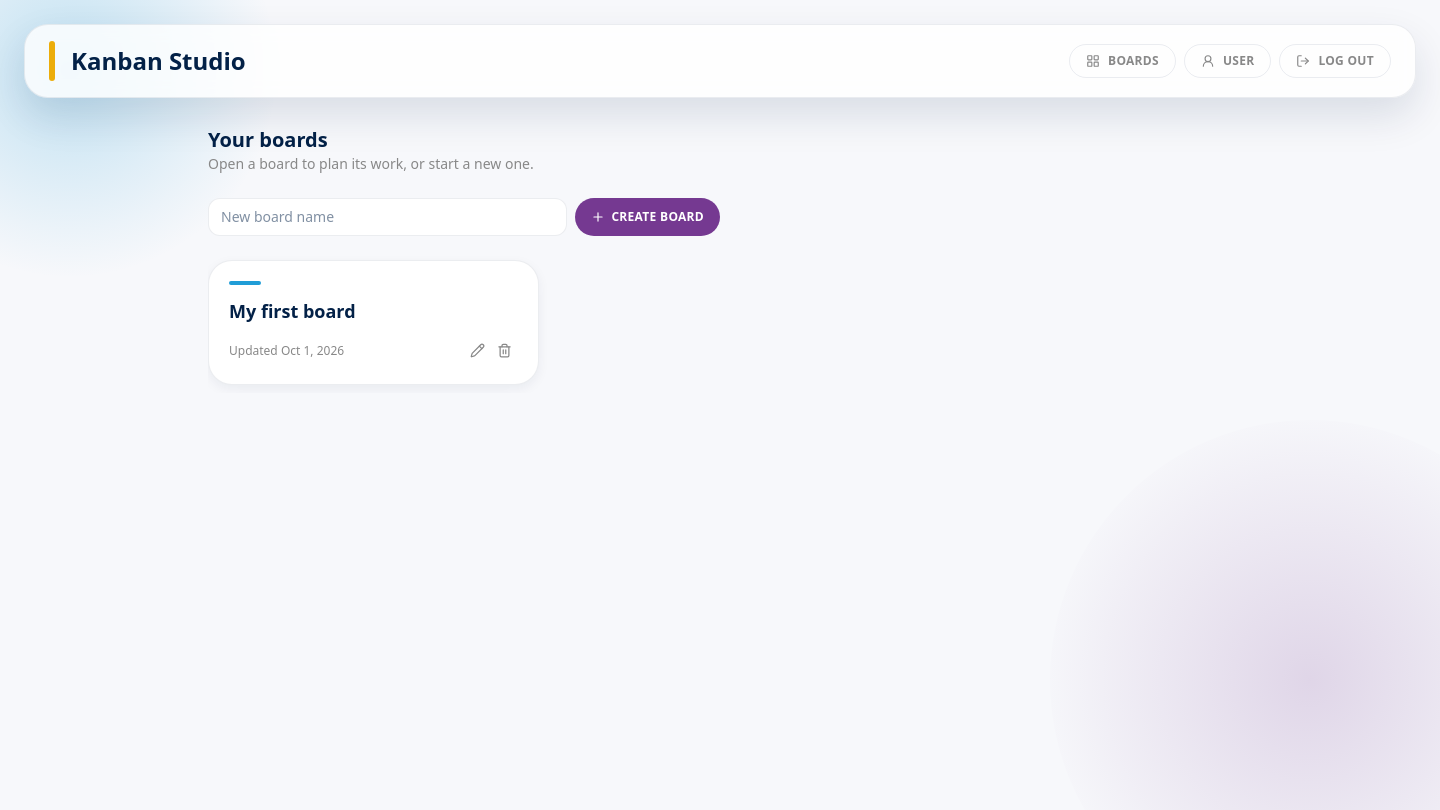
it: Home › deleting the account signs out
Click the button "user" at coordinates (1228, 61), box [1184,44,1271,78]
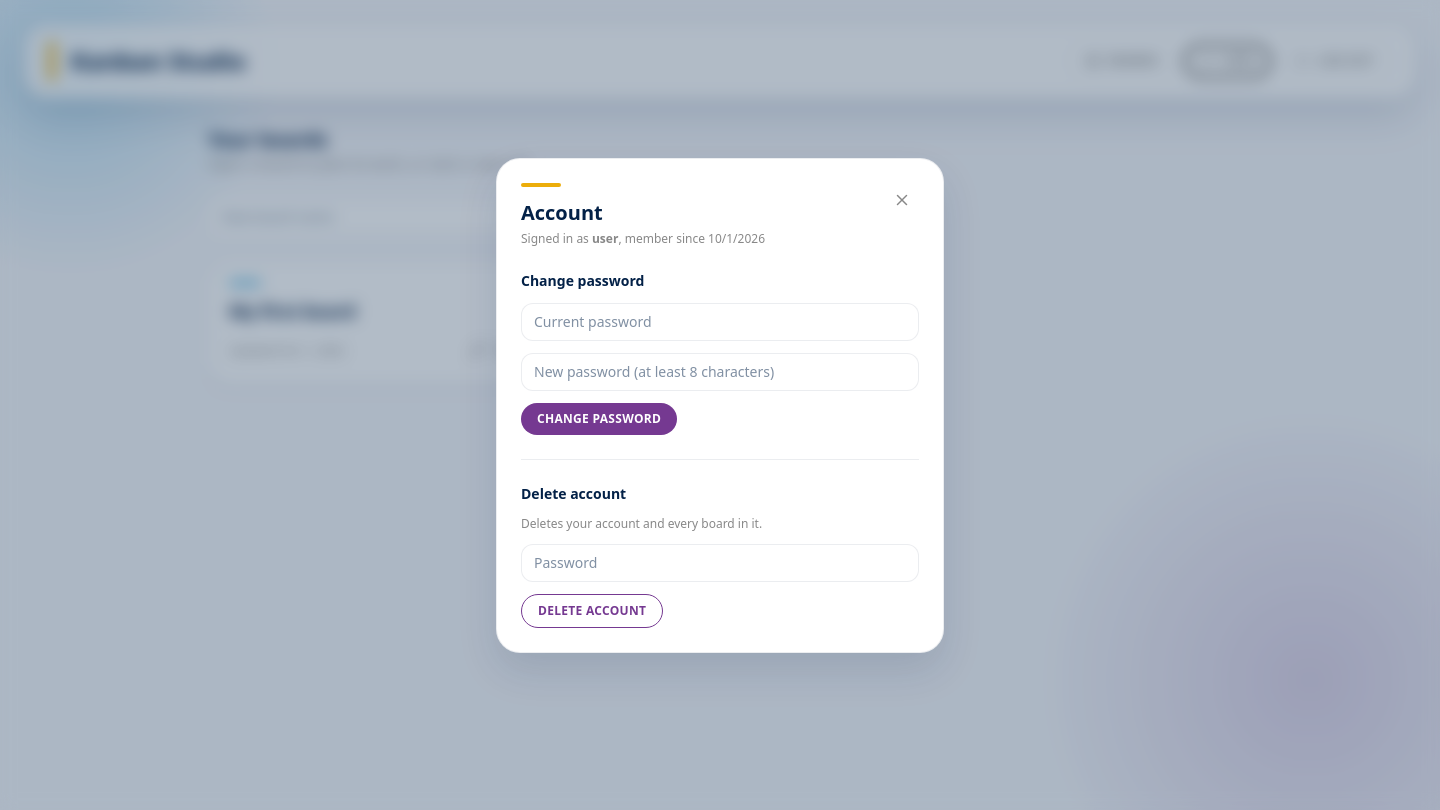
Now the dialog "Account" is shown, box [496,158,944,652]
Type "password" into the password field named "Password to confirm deletion" at coordinates (720, 562), box [521,544,919,582]
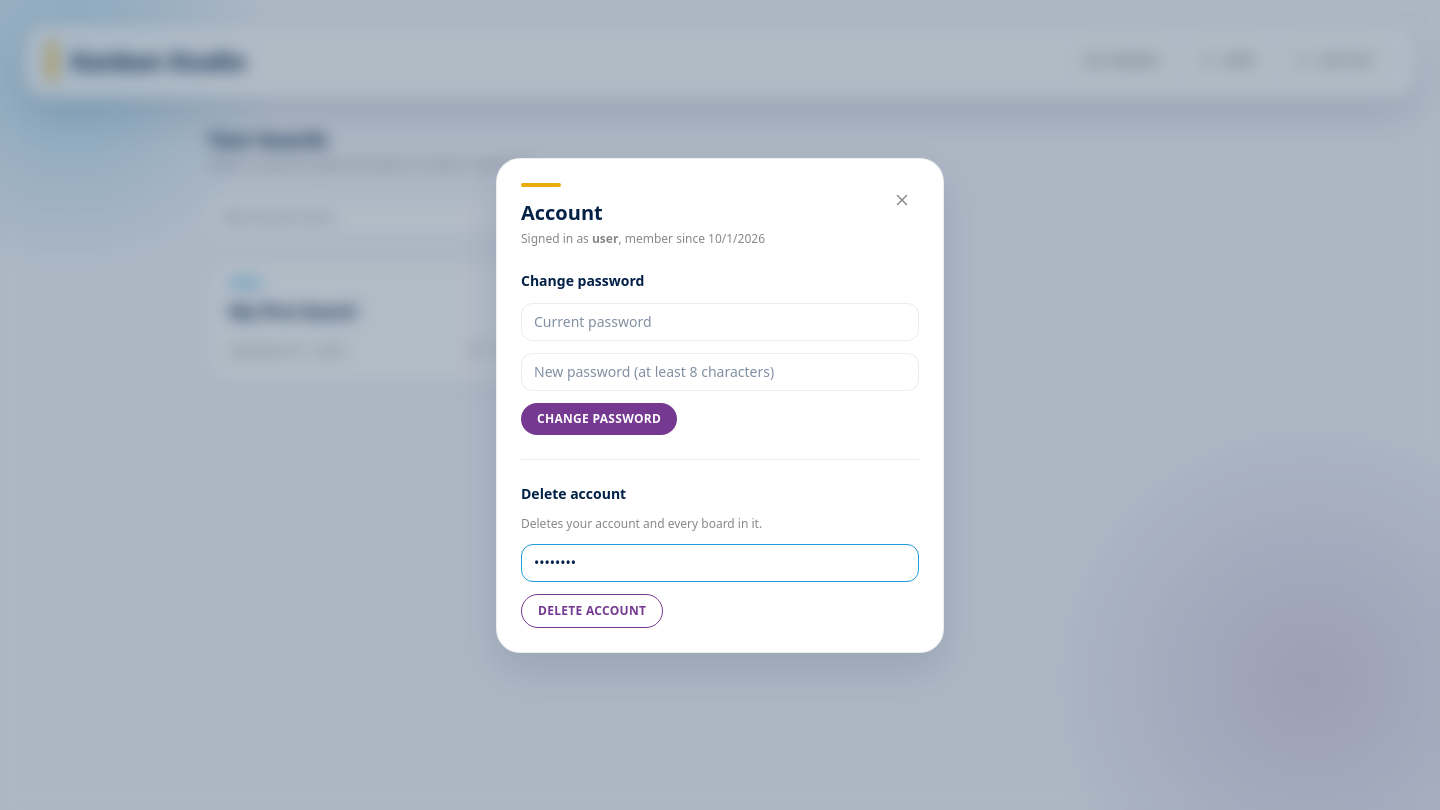
Click the button "Delete account" at coordinates (592, 610), box [521,594,663,628]
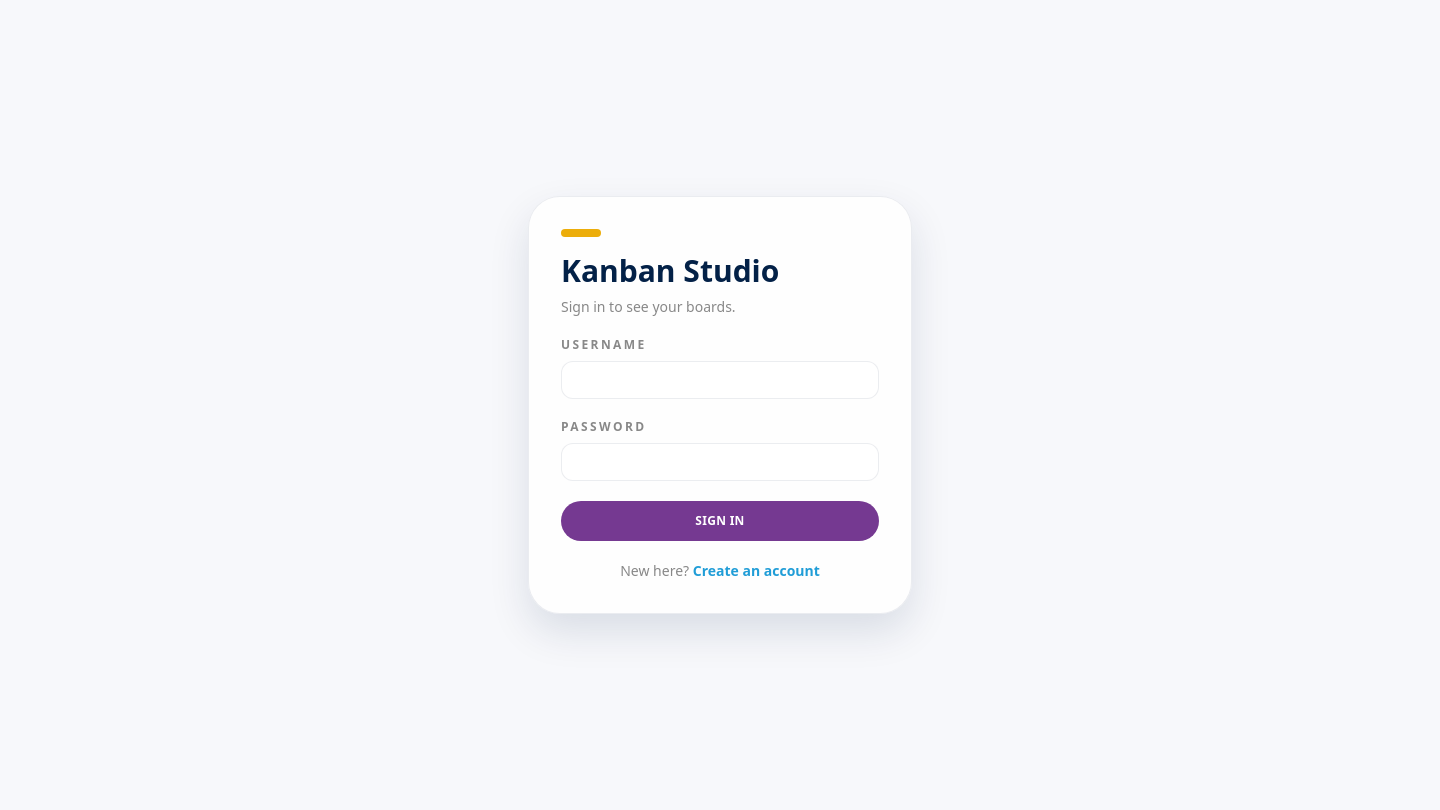
Now the button "Sign in" is shown, box [561,501,879,541]
Now the dialog is gone
